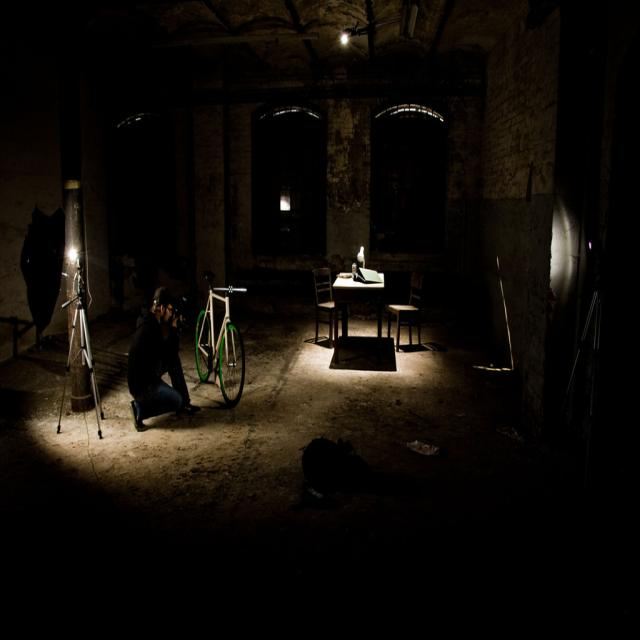Bicycle: (192, 260, 256, 411)
Bottle: (355, 246, 371, 276)
People: (122, 272, 203, 429)
Table: (326, 260, 392, 354)
chair: (308, 260, 350, 360), (391, 264, 430, 358)
